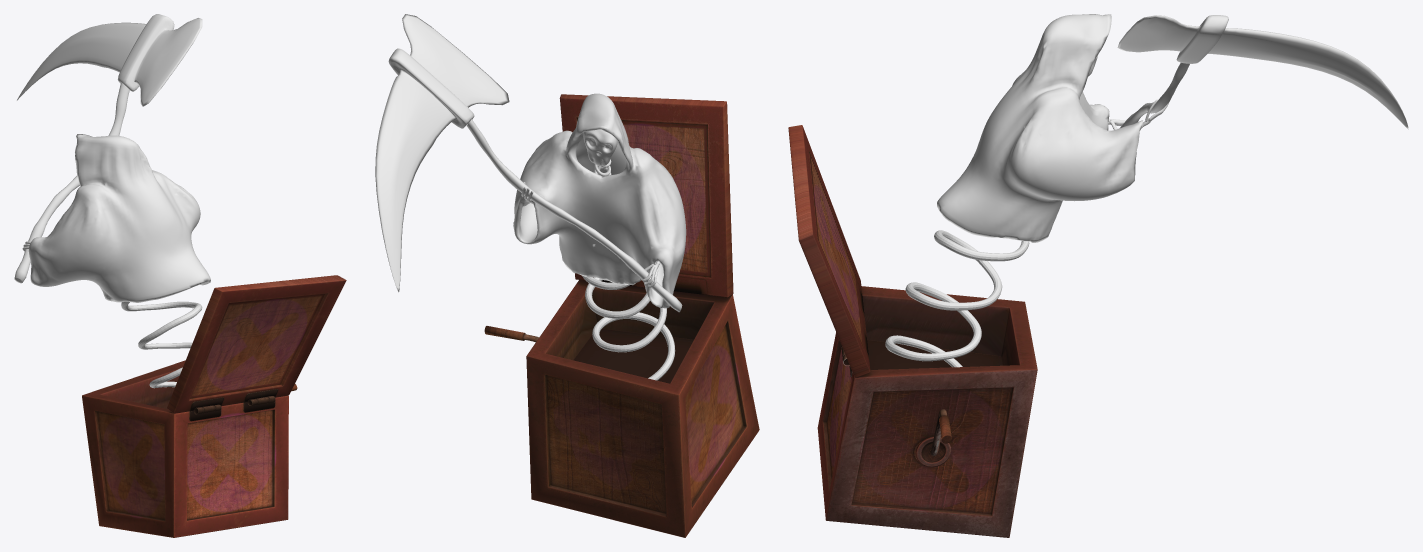
The model's file is Grim_Leaper.fbx.
The picture shows the model from 3 angles, left to right: view 1: azimuth 30°, elevation 25°; view 2: azimuth 150°, elevation 25°; view 3: azimuth 270°, elevation 25°; orthographic projection. The views are drawn at different scales.
Parts seen in each view (by area): view 1: Leaper; view 2: Leaper; view 3: Leaper.
Part boxes in pixels (left/top/right/bottom): Leaper: left=14, top=14, right=346, bottom=537; Leaper: left=375, top=14, right=759, bottom=537; Leaper: left=788, top=14, right=1408, bottom=537.
Size of the model in its own units: 388 by 717 by 720.
4 materials, 1 textured.
